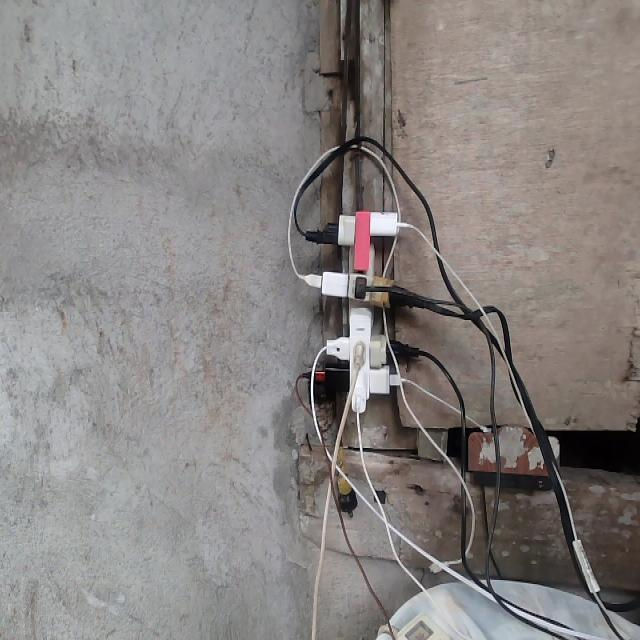-: (296, 210, 423, 414)
